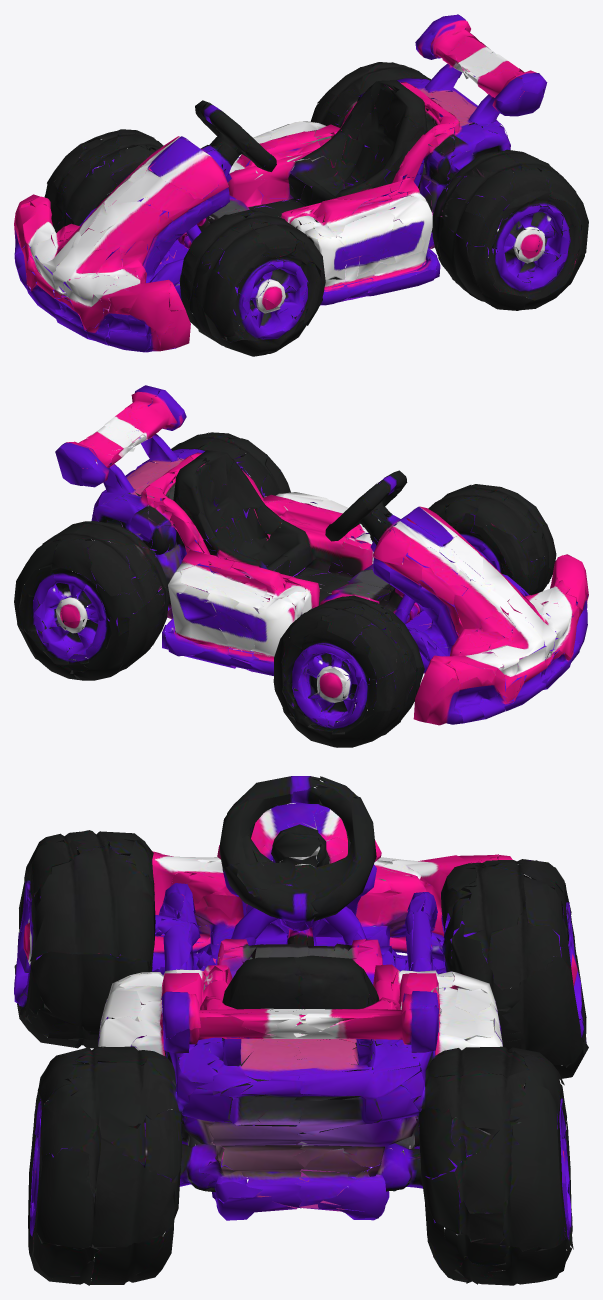
File: v-c0217ad8.kart.glb
3 renders of one model, top to bottom at view 1: azimuth 30°, elevation 25°; view 2: azimuth 150°, elevation 25°; view 3: azimuth 270°, elevation 25°, orthographic. The views are drawn at different scales.
Parts seen in each view (by area): view 1: Mesh_0; view 2: Mesh_0; view 3: Mesh_0.
Part boxes in pixels (bbox=[...]): Mesh_0: bbox=[14, 14, 588, 356]; Mesh_0: bbox=[14, 385, 588, 747]; Mesh_0: bbox=[14, 776, 588, 1285].
Size of the model in its own units: 1.95 by 0.8224 by 1.35.
Materials: 1 (1 with a texture image).
